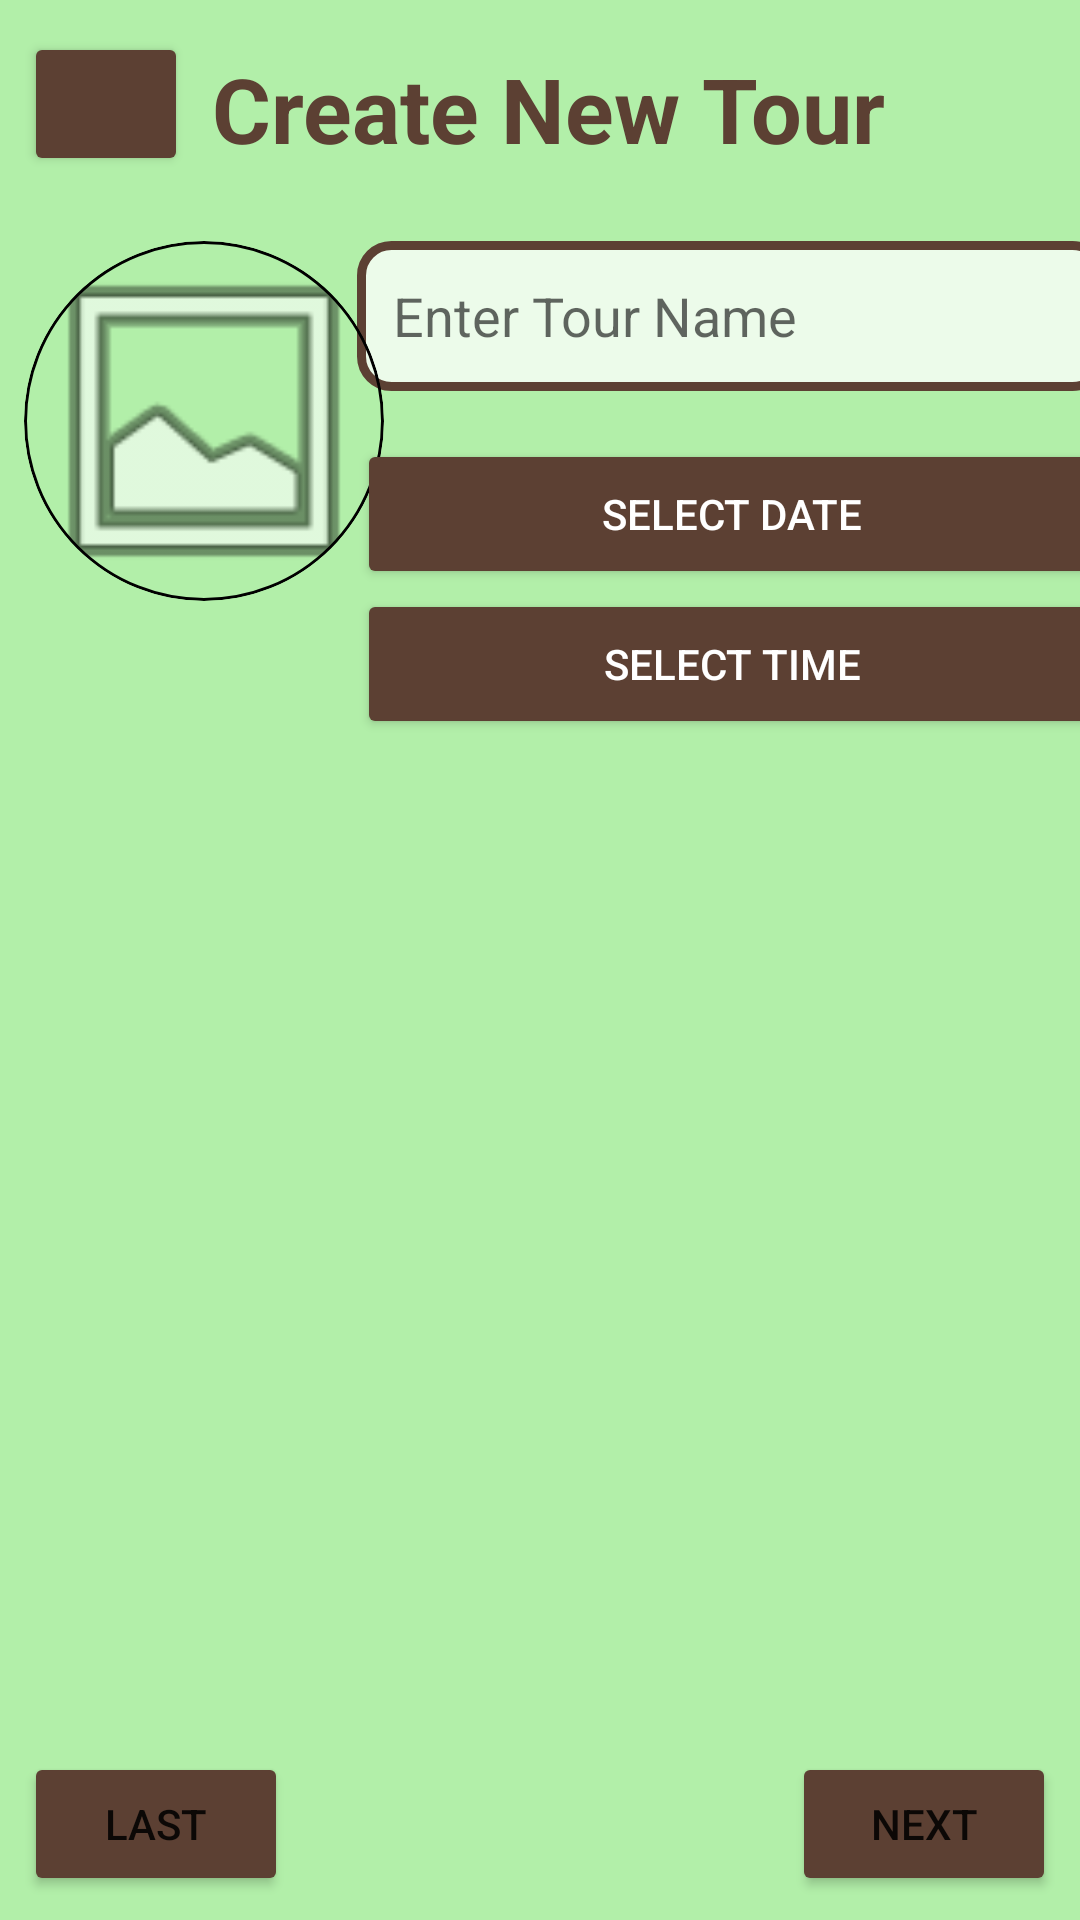

Point at icon controls on the screen. Image size 1080×1920, points as (x,y).
gallery: (204,421)
